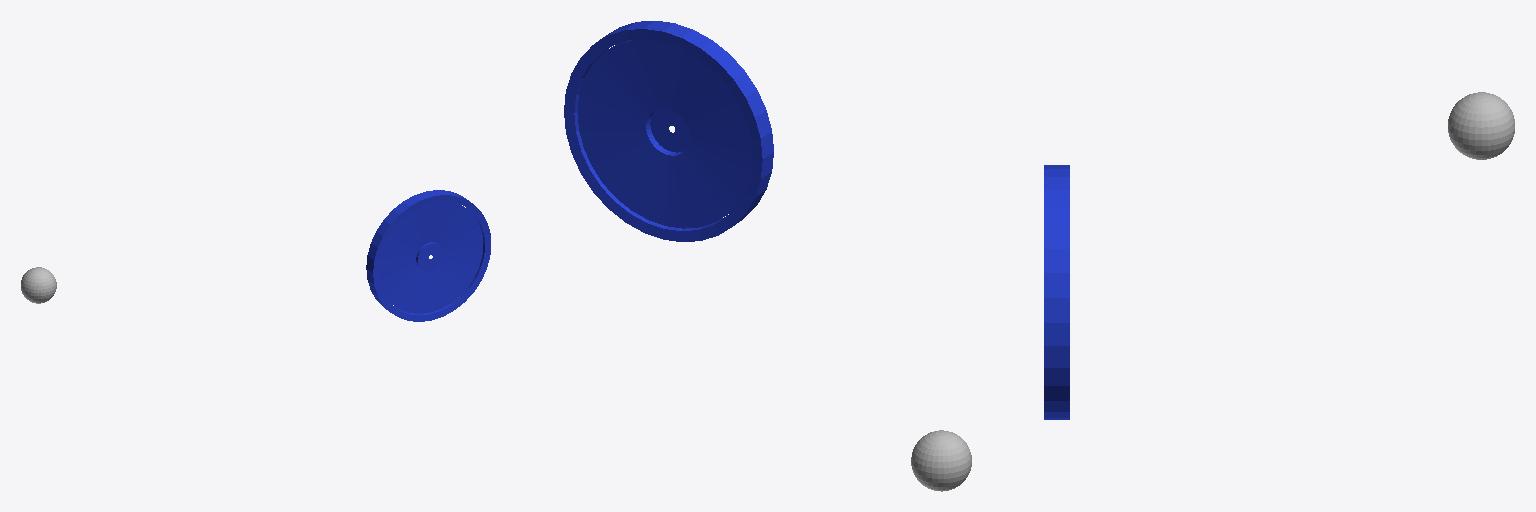
The robot description file, URDF, robot "rcr":
<?xml version="1.0"?>
<robot name="rcr">
  <material name="charcoal">
    <color rgba="0.15 0.15 0.18 1.0"/>
  </material>
  <material name="fb_blue">
    <color rgba="0.2 0.3 0.85 1.0"/>
  </material>
  <material name="silver">
    <color rgba="0.75 0.75 0.75 1.0"/>
  </material>

  <link name="base_footprint"/>

  <joint name="base_joint" type="fixed">
    <parent link="base_footprint"/>
    <child link="base_link"/>
    <origin xyz="0.0 0.0 0.0" rpy="0 0 0"/>
  </joint>

  <link name="base_link">
    <visual>
      <origin xyz="0 0 0" rpy="0 0 0"/>
      <geometry>
        <mesh filename="meshes/firebird6_chassis.obj"/>
      </geometry>
      <material name="charcoal"/>
    </visual>
    <collision>
      <!-- Bottom 1 cm above the floor: only the wheels and caster touch it (a body resting
           on the ground drags, and the robot cannot drive). -->
      <origin xyz="-0.07 0 0.115" rpy="0 0 0"/>
      <geometry>
        <cylinder length="0.21" radius="0.162"/>
      </geometry>
    </collision>
    <inertial>
      <origin xyz="-0.07 0 0.11" rpy="0 0 0"/>
      <mass value="1.40"/>
      <inertia ixx="0.0118" ixy="0" ixz="0" iyy="0.0118" iyz="0" izz="0.0170"/>
    </inertial>
  </link>

  <joint name="wheel_left_joint" type="continuous">
    <parent link="base_link"/>
    <child link="left_wheel"/>
    <origin xyz="0.0 0.150 0.045" rpy="-1.5707963 0 0"/>
    <axis xyz="0 0 1"/>
  </joint>

  <link name="left_wheel">
    <visual>
      <origin xyz="0 0 0" rpy="0 0 0"/>
      <geometry>
        <mesh filename="meshes/firebird6_wheel_left.obj"/>
      </geometry>
      <material name="fb_blue"/>
    </visual>
    <collision>
      <origin xyz="0 0 0" rpy="0 0 0"/>
      <geometry>
        <cylinder length="0.009" radius="0.045"/>
      </geometry>
    </collision>
    <inertial>
      <origin xyz="0 0 0" rpy="0 0 0"/>
      <mass value="0.08"/>
      <inertia ixx="0.000054" ixy="0" ixz="0" iyy="0.000054" iyz="0" izz="0.000108"/>
    </inertial>
  </link>

  <joint name="wheel_right_joint" type="continuous">
    <parent link="base_link"/>
    <child link="right_wheel"/>
    <origin xyz="0.0 -0.150 0.045" rpy="-1.5707963 0 0"/>
    <axis xyz="0 0 1"/>
  </joint>

  <link name="right_wheel">
    <visual>
      <origin xyz="0 0 0" rpy="0 0 0"/>
      <geometry>
        <mesh filename="meshes/firebird6_wheel_right.obj"/>
      </geometry>
      <material name="fb_blue"/>
    </visual>
    <collision>
      <origin xyz="0 0 0" rpy="0 0 0"/>
      <geometry>
        <cylinder length="0.009" radius="0.045"/>
      </geometry>
    </collision>
    <inertial>
      <origin xyz="0 0 0" rpy="0 0 0"/>
      <mass value="0.08"/>
      <inertia ixx="0.000054" ixy="0" ixz="0" iyy="0.000054" iyz="0" izz="0.000108"/>
    </inertial>
  </link>

  <joint name="caster_back_joint" type="fixed">
    <parent link="base_link"/>
    <child link="caster_back"/>
    <origin xyz="-0.210 0.0 0.012" rpy="0 0 0"/>
  </joint>

  <link name="caster_back">
    <visual>
      <geometry>
        <sphere radius="0.012"/>
      </geometry>
      <material name="silver"/>
    </visual>
    <collision>
      <geometry>
        <sphere radius="0.012"/>
      </geometry>
    </collision>
    <inertial>
      <mass value="0.04"/>
      <inertia ixx="0.000002" ixy="0" ixz="0" iyy="0.000002" iyz="0" izz="0.000002"/>
    </inertial>
  </link>
</robot>

--- Render facts (derived) ---
Views: 3 orthographic renders of the robot side by side, from view 1: azimuth 30°, elevation 25°; view 2: azimuth 150°, elevation 25°; view 3: azimuth 270°, elevation 25°.
Model rcr with 5 links and 4 joints (2 continuous, 2 fixed), rooted at base_footprint, posed every joint at zero.
Visible links, largest first — view 1: right_wheel, caster_back; view 2: right_wheel, caster_back; view 3: right_wheel, caster_back.
Boxes of the visible links, x1,y1,x2,y2 form: right_wheel: [366, 190, 490, 321]; caster_back: [21, 267, 56, 303]; right_wheel: [564, 21, 773, 241]; caster_back: [911, 430, 971, 491]; right_wheel: [1044, 165, 1069, 419]; caster_back: [1448, 92, 1514, 159].
Bounding box of the posed robot: 0.267 × 0.1665 × 0.09 m (x, y, z).
1 mesh visuals loaded from 3 distinct referenced files (1 OBJ); not drawn: 2 (reference not matched to a file when rendering).
